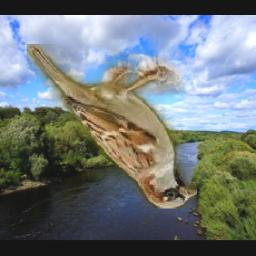Sparrow: (28, 45, 198, 209)
